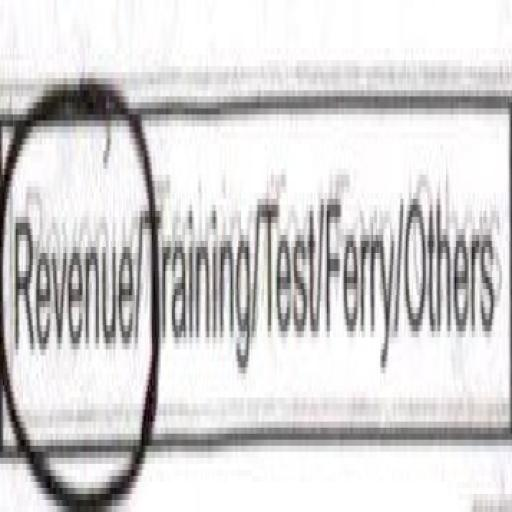check: (2, 18, 148, 512)
